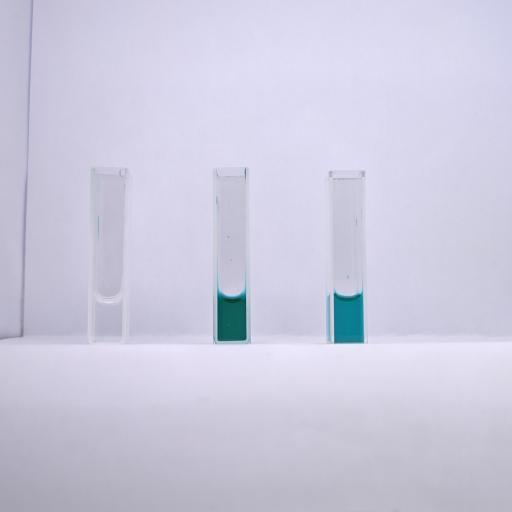cuvette: (210, 164, 254, 348), (86, 164, 130, 347), (326, 168, 370, 348)
liquid: (334, 295, 363, 343), (218, 296, 246, 341), (94, 296, 122, 340)
